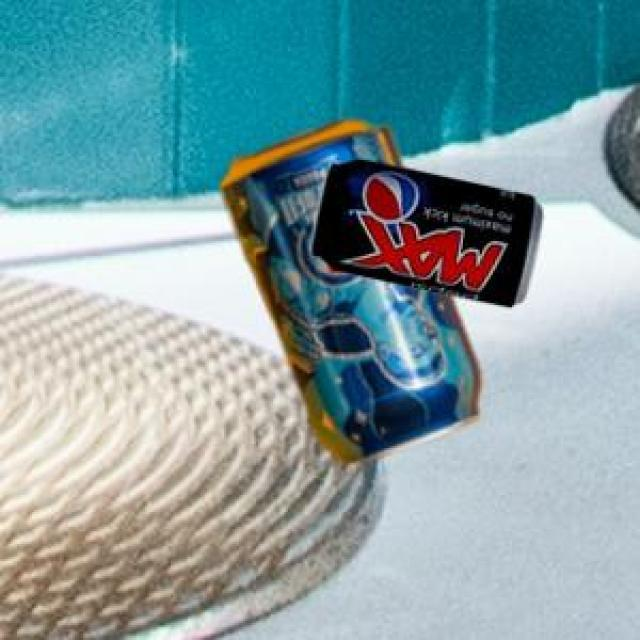Can: (219, 118, 477, 460), (308, 157, 539, 304)
